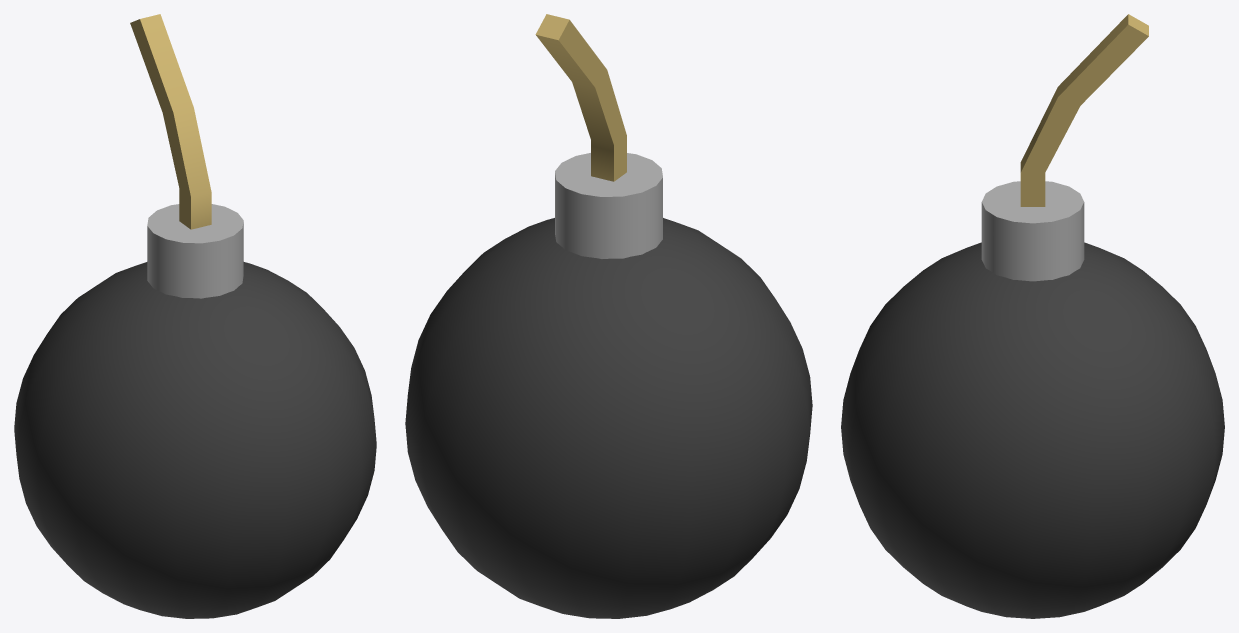
File: Bomb (Test).fbx
3 views of the same model, side by side, from view 1: azimuth 30°, elevation 25°; view 2: azimuth 150°, elevation 25°; view 3: azimuth 270°, elevation 25° (orthographic). The views are drawn at different scales.
Parts seen in each view (by area): view 1: Bomb_Fuse1; view 2: Bomb_Fuse1; view 3: Bomb_Fuse1.
Part boxes in pixels (box(x1,y1,x2,y2)): Bomb_Fuse1: box(14, 14, 376, 618); Bomb_Fuse1: box(405, 14, 812, 618); Bomb_Fuse1: box(841, 14, 1224, 618).
Bounding box in the file's own units: 15.68 × 26.21 × 15.68.
